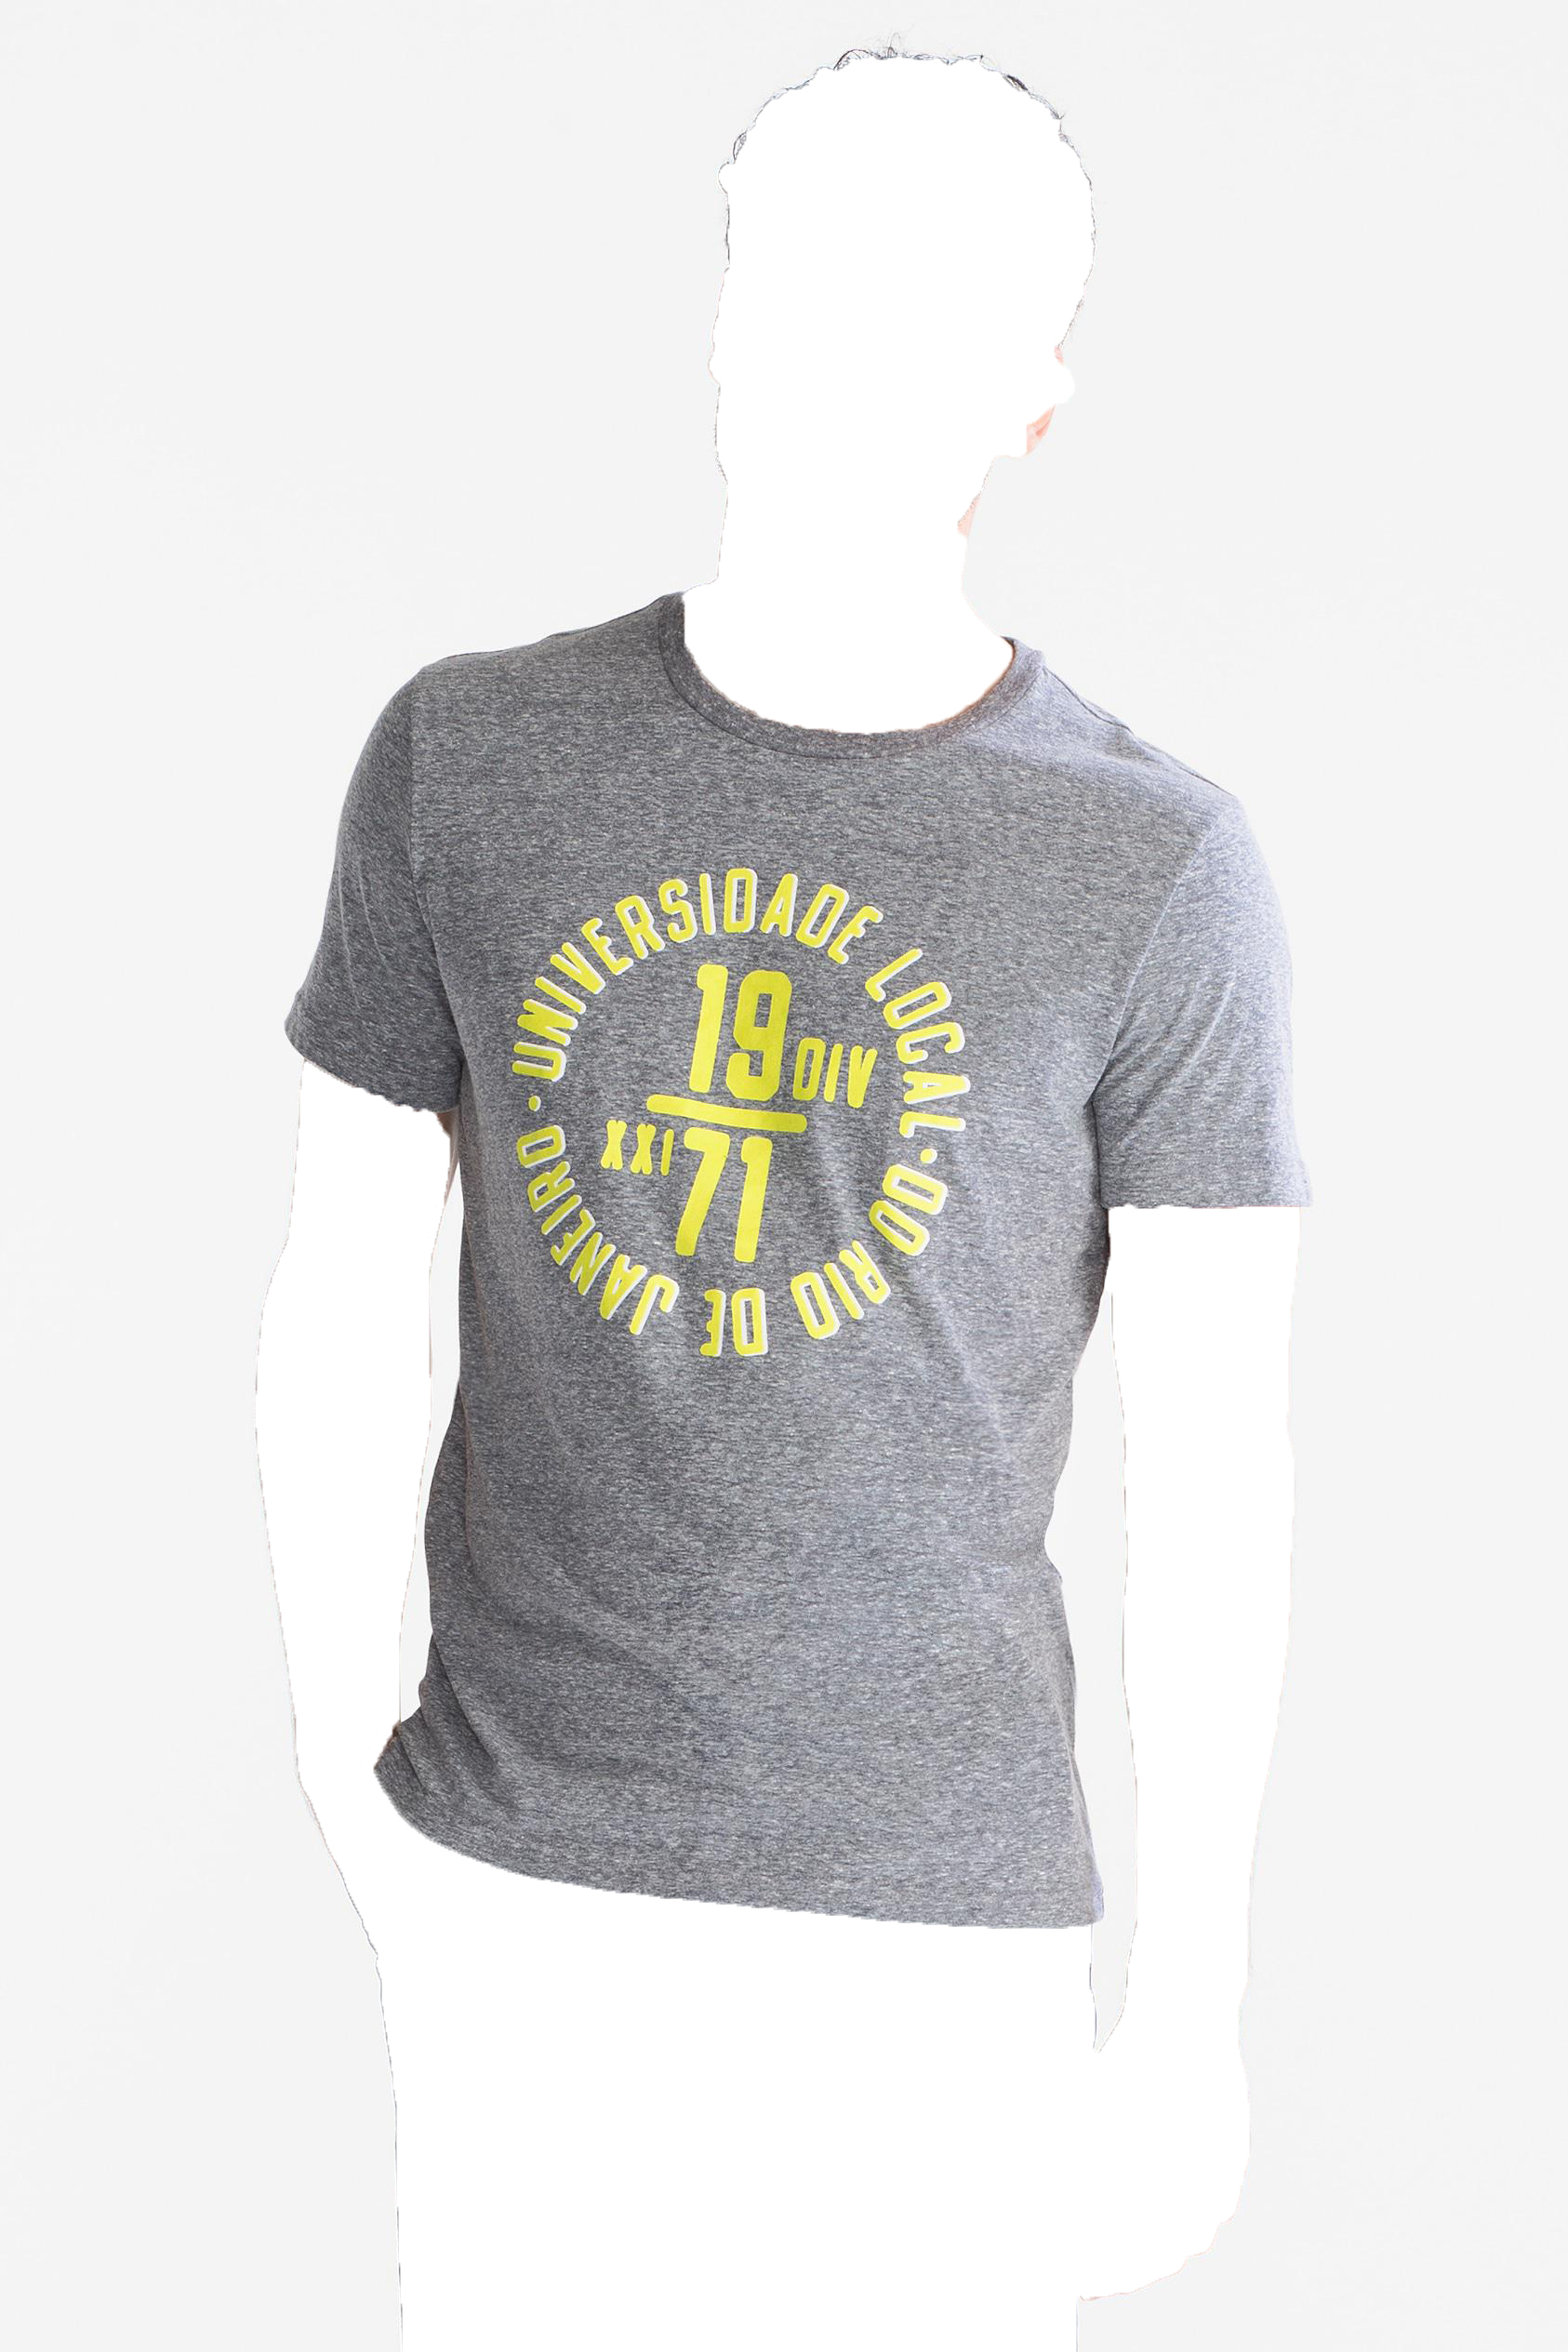teeshirt: (262, 583, 1325, 1958)
